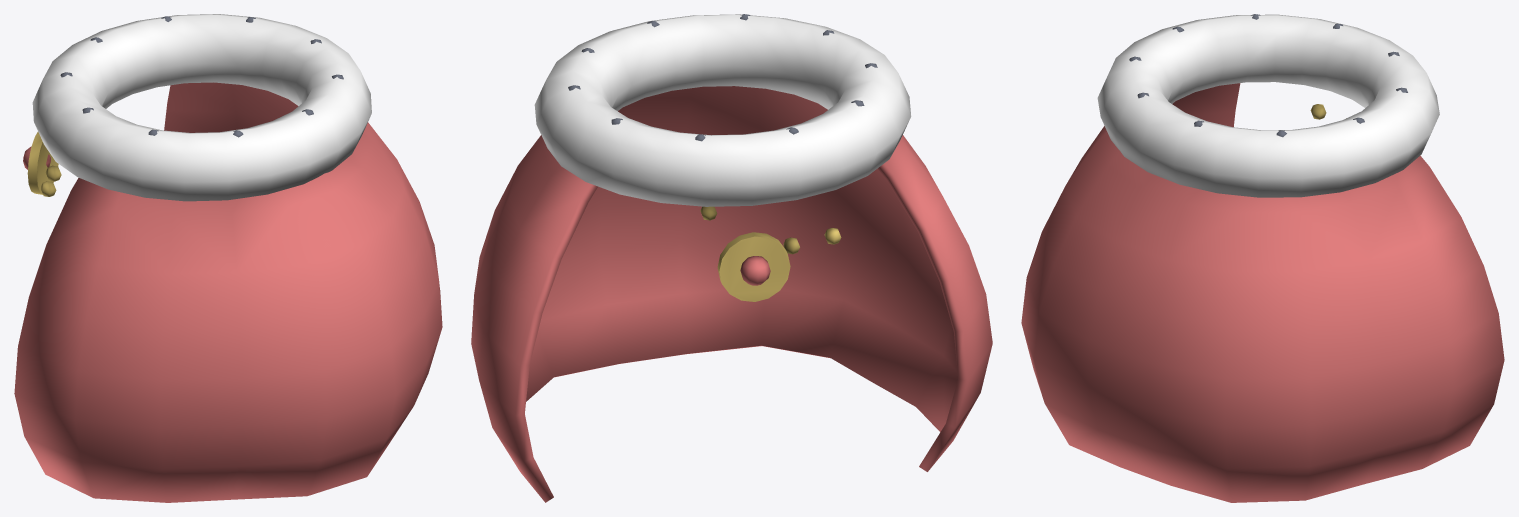
Rendered from king_chest.fbx.
3 views of the same model, side by side, from view 1: azimuth 30°, elevation 25°; view 2: azimuth 150°, elevation 25°; view 3: azimuth 270°, elevation 25° (orthographic). The views are drawn at different scales.
Visible parts, largest first — view 1: king_chest; view 2: king_chest; view 3: king_chest.
Part boxes in pixels (box(x1,y1,x2,y2)): king_chest: box(14, 14, 442, 502); king_chest: box(471, 14, 992, 502); king_chest: box(1021, 14, 1504, 502).
Bounding box in the file's own units: 2.02 × 1.56 × 2.
